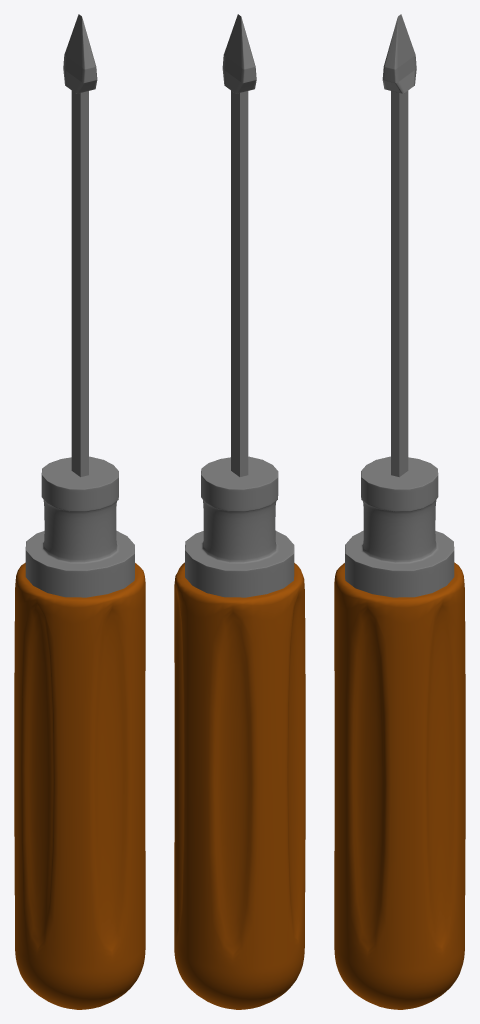
File: Screw.obj
3 renders of one model, left to right at view 1: azimuth 30°, elevation 25°; view 2: azimuth 210°, elevation 25°; view 3: azimuth 330°, elevation 25°, orthographic.
Parts seen in each view (by area): view 1: pCube4 polySurface3, pCube4 polySurface4, polySurface1 pCube4, pCube4 polySurface2; view 2: pCube4 polySurface3, pCube4 polySurface4, polySurface1 pCube4, pCube4 polySurface2; view 3: pCube4 polySurface3, pCube4 polySurface4, polySurface1 pCube4, pCube4 polySurface2.
Boxes of the visible parts, box(x1,y1,x2,y2) form: pCube4 polySurface3: box(14, 562, 145, 1009); pCube4 polySurface4: box(25, 456, 134, 597); polySurface1 pCube4: box(71, 91, 88, 477); pCube4 polySurface2: box(63, 14, 97, 93); pCube4 polySurface3: box(174, 562, 305, 1009); pCube4 polySurface4: box(185, 456, 294, 597); polySurface1 pCube4: box(231, 90, 248, 476); pCube4 polySurface2: box(222, 14, 256, 93); pCube4 polySurface3: box(334, 562, 465, 1009); pCube4 polySurface4: box(345, 456, 454, 597); polySurface1 pCube4: box(391, 91, 408, 477); pCube4 polySurface2: box(382, 14, 416, 93).
Bounding box in the file's own units: 0.2921 × 2.43 × 0.2908.
